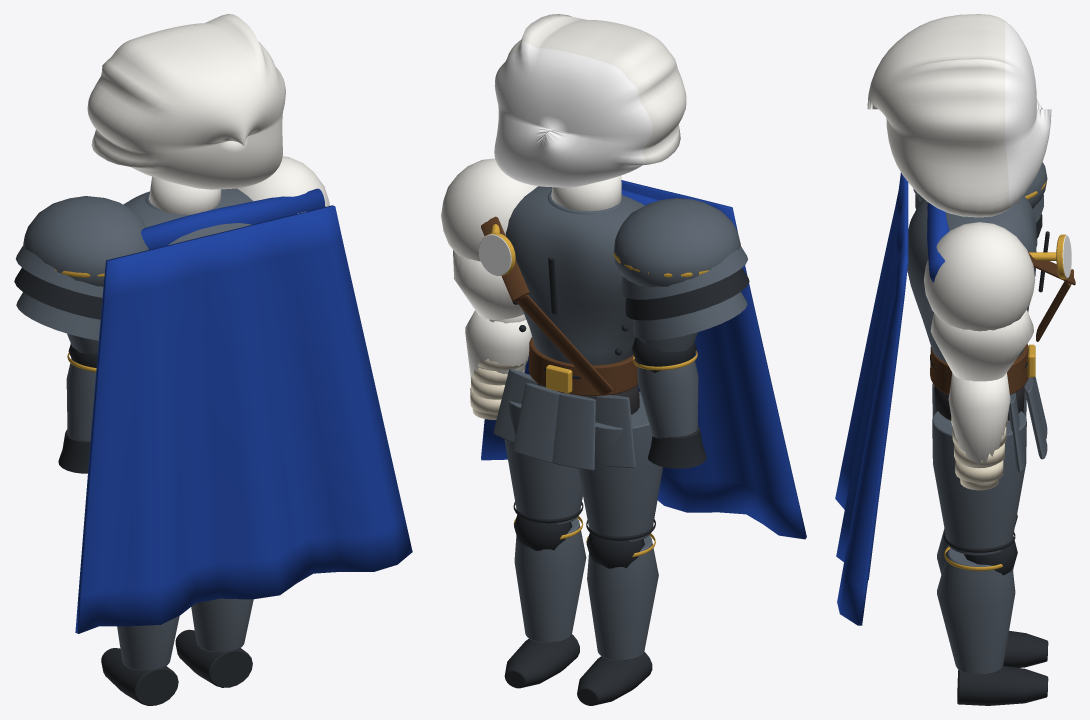
Rendered from hero-knight.glb.
3 renders of one model, left to right at view 1: azimuth 30°, elevation 25°; view 2: azimuth 150°, elevation 25°; view 3: azimuth 270°, elevation 25°, orthographic. The views are drawn at different scales.
Visible parts, largest first — view 1: chest__cape, headPivot__head, armL__pauldome, chest__capecollar, kneeR__greave, ankleR__sabaton, ankleL__sabaton, kneeL__greave, armR__deltoid, armL__pauldron1, neckPivot__neck, elbowL__vambrace (+4 smaller); view 2: headPivot__head, chest__cape, chest__cuirass, armL__pauldome, thighL__cuisse, kneeL__greave, kneeR__greave, armR__deltoid, thighR__cuisse, elbowL__vambrace, elbowR__forearm, hips__tasset1 (+20 smaller); view 3: headPivot__head, chest__cape, armR__deltoid, thighR__cuisse, kneeR__greave, armR__bicep, elbowR__forearm, chest__cuirass, ankleR__sabaton, ankleL__sabaton, spine__belt, chest__capecollar (+10 smaller).
Part boxes in pixels (<box>): chest__cape: <box>75,205,412,633</box>; headPivot__head: <box>87,14,285,189</box>; armL__pauldome: <box>23,196,148,286</box>; chest__capecollar: <box>141,188,325,249</box>; kneeR__greave: <box>191,598,253,652</box>; ankleR__sabaton: <box>175,629,252,687</box>; ankleL__sabaton: <box>101,648,178,705</box>; kneeL__greave: <box>117,616,179,670</box>; armR__deltoid: <box>237,156,329,213</box>; armL__pauldron1: <box>14,268,102,319</box>; neckPivot__neck: <box>149,176,221,214</box>; elbowL__vambrace: <box>66,358,95,440</box>; headPivot__head: <box>494,14,686,187</box>; chest__cape: <box>481,180,806,539</box>; chest__cuirass: <box>505,186,644,365</box>; armL__pauldome: <box>614,198,741,286</box>; thighL__cuisse: <box>578,391,662,541</box>; kneeL__greave: <box>587,535,658,660</box>; kneeR__greave: <box>514,518,586,642</box>; armR__deltoid: <box>441,158,537,261</box>; thighR__cuisse: <box>504,374,582,524</box>; elbowL__vambrace: <box>637,356,698,438</box>; elbowR__forearm: <box>465,310,532,385</box>; hips__tasset1: <box>552,393,595,470</box>; headPivot__head: <box>867,14,1051,217</box>; chest__cape: <box>835,173,908,625</box>; armR__deltoid: <box>924,222,1035,331</box>; thighR__cuisse: <box>932,411,1026,555</box>; kneeR__greave: <box>937,548,1015,674</box>; armR__bicep: <box>930,309,1033,381</box>; elbowR__forearm: <box>948,373,1010,468</box>; chest__cuirass: <box>907,195,1036,362</box>; ankleR__sabaton: <box>957,665,1048,705</box>; ankleL__sabaton: <box>1003,630,1048,667</box>; spine__belt: <box>930,343,1028,394</box>; chest__capecollar: <box>927,202,949,282</box>.
Bounding box in the file's own units: 1.07 × 2 × 0.6696.
